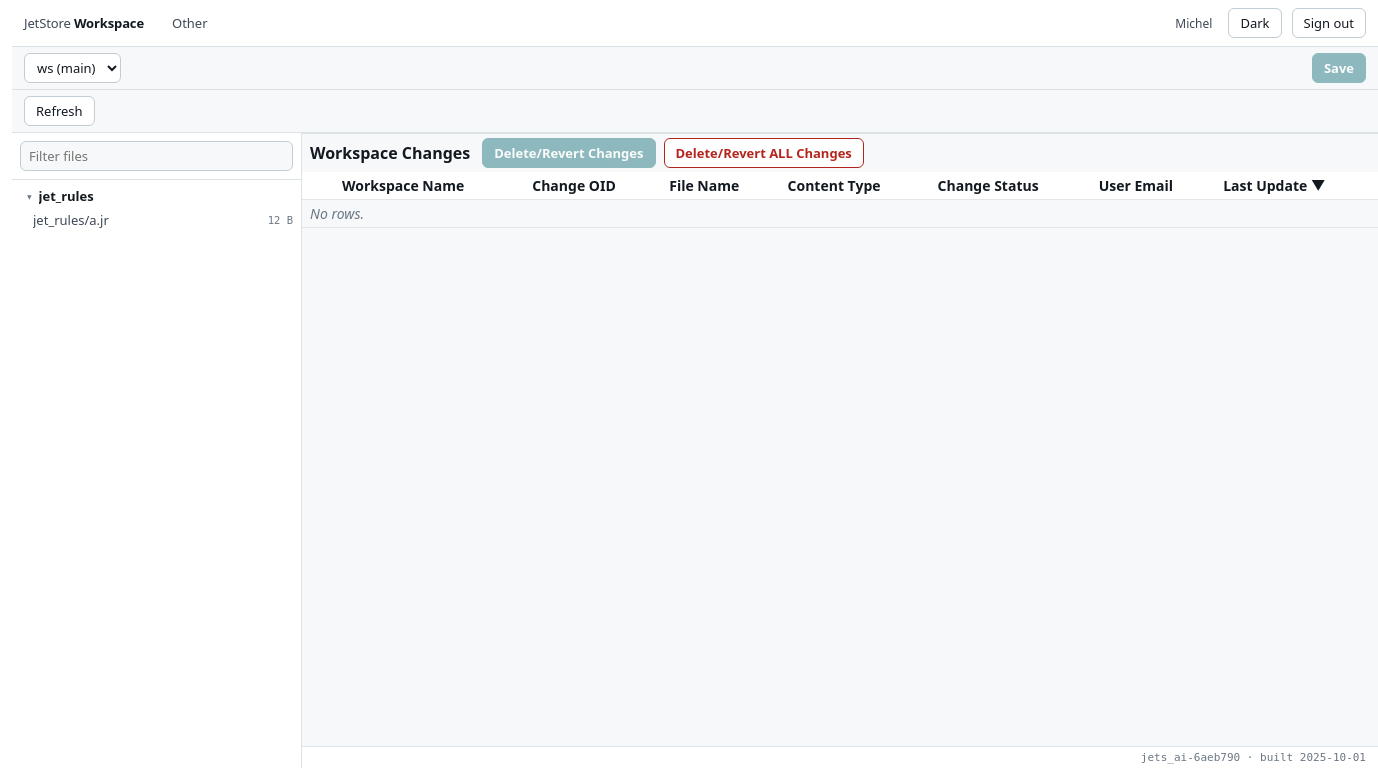
the Workspace IDE and the build information › shows it once, beside the file's own entries, with a file open
Click the button titled "jet_rules/a.jr".
click(71, 220)  # box [12,208,301,232]
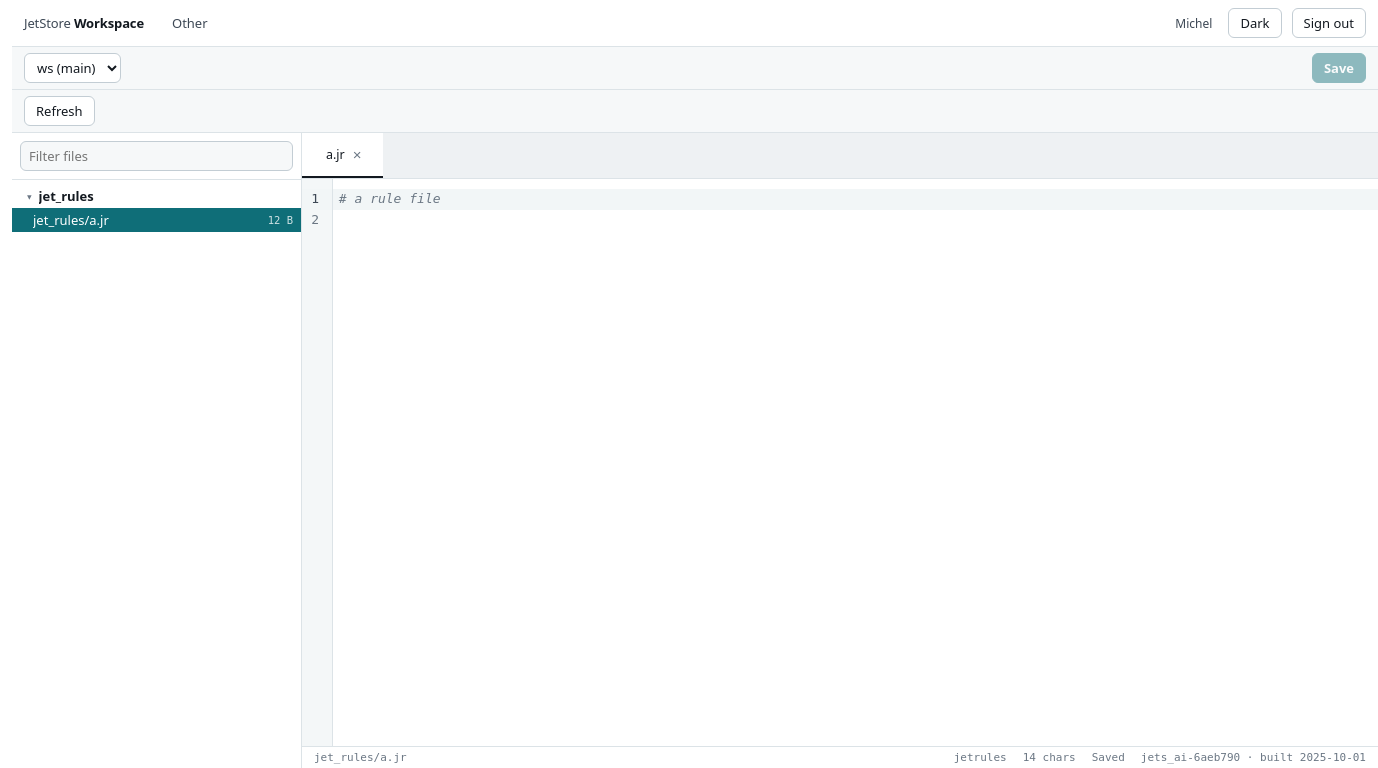
Check: the text "jets_ai-6aeb790 · built 2025-10-01" is shown once, box [1141,751,1366,764]
Check: the button named "Close jet_rules/a.jr" is shown, box [351,147,371,162]
Check: the text "jets_ai-6aeb790 · built 2025-10-01" shows "Saved", box [1092,751,1125,764]
